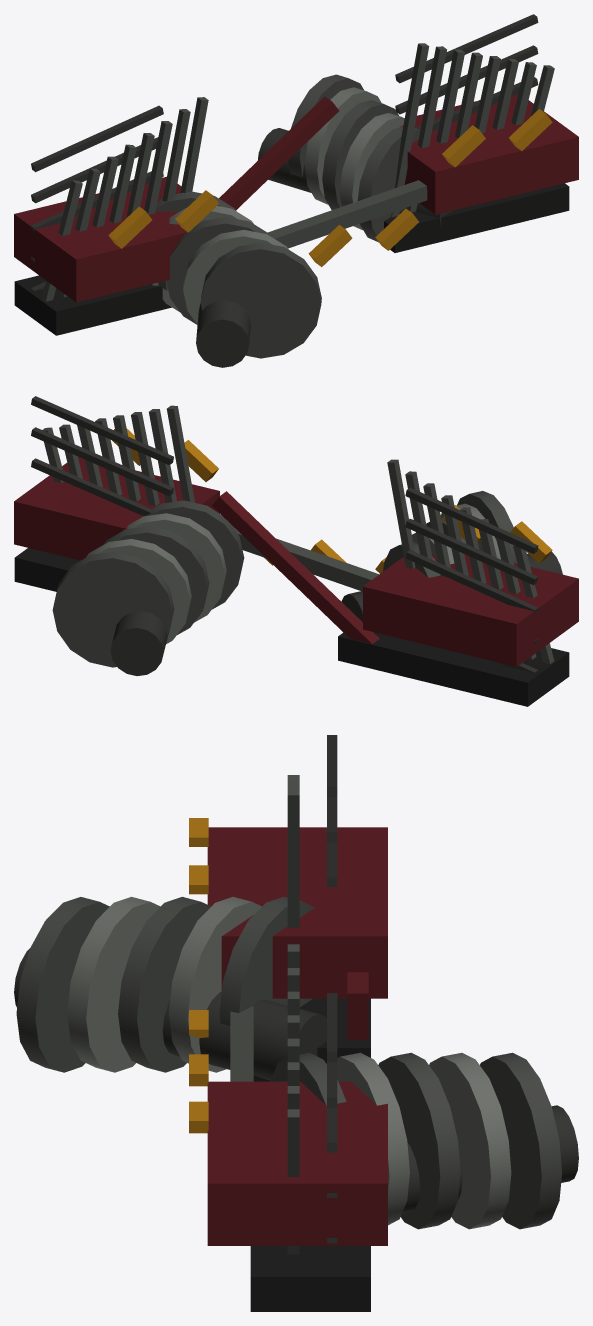
The model's file is CMU3DElectrifiedGrilleBrokenCloud.glb.
3 renders of one model, top to bottom at view 1: azimuth 30°, elevation 25°; view 2: azimuth 150°, elevation 25°; view 3: azimuth 270°, elevation 25°, orthographic. The views are drawn at different scales.
Visible parts, largest first — view 1: fallen coil ring (×10), broken red conductor section (×2), torn mesh strand (×16), remaining ragged crosswire (×6), broken warning stripe (×6), broken lower support rail right, broken lower support rail left, fallen coil shaft (×2), loose metal fragment, bent severed red cable; view 2: broken red conductor section (×2), fallen coil ring (×7), torn mesh strand (×15), remaining ragged crosswire (×6), broken lower support rail left, bent severed red cable, fallen coil shaft (×2), loose metal fragment, broken lower support rail right, broken warning stripe (×2); view 3: fallen coil ring (×10), broken red conductor section (×2), broken lower support rail right, fallen coil shaft (×2), torn mesh strand (×2), loose metal fragment, broken lower support rail left, bent severed red cable, remaining ragged crosswire.
Part boxes in pixels (left/top/right/bottom): fallen coil ring (×10): left=152, top=74, right=420, bottom=358; broken red conductor section (×2): left=14, top=94, right=578, bottom=302; torn mesh strand (×16): left=41, top=43, right=554, bottom=301; remaining ragged crosswire (×6): left=31, top=14, right=538, bottom=231; broken warning stripe (×6): left=108, top=109, right=552, bottom=266; broken lower support rail right: left=362, top=183, right=569, bottom=252; broken lower support rail left: left=14, top=275, right=171, bottom=335; fallen coil shaft (×2): left=196, top=128, right=453, bottom=367; loose metal fragment: left=158, top=180, right=427, bottom=290; bent severed red cable: left=219, top=96, right=339, bottom=210; broken red conductor section (×2): left=14, top=456, right=578, bottom=666; fallen coil ring (×7): left=52, top=491, right=517, bottom=667; torn mesh strand (×15): left=59, top=405, right=554, bottom=663; remaining ragged crosswire (×6): left=31, top=396, right=538, bottom=612; broken lower support rail left: left=338, top=632, right=569, bottom=706; bent severed red cable: left=212, top=491, right=379, bottom=643; fallen coil shaft (×2): left=110, top=551, right=562, bottom=675; loose metal fragment: left=231, top=524, right=378, bottom=590; broken lower support rail right: left=14, top=548, right=80, bottom=591; broken warning stripe (×2): left=184, top=440, right=552, bottom=563; fallen coil ring (×10): left=16, top=896, right=562, bottom=1229; broken red conductor section (×2): left=207, top=827, right=387, bottom=1245; broken lower support rail right: left=250, top=1246, right=370, bottom=1311; fallen coil shaft (×2): left=14, top=948, right=578, bottom=1212; torn mesh strand (×2): left=287, top=788, right=299, bottom=1254; loose metal fragment: left=230, top=1006, right=253, bottom=1081; broken lower support rail left: left=253, top=998, right=370, bottom=1081; bent severed red cable: left=347, top=972, right=368, bottom=1039; remaining ragged crosswire: left=327, top=993, right=337, bottom=1062.
Bounding box in the file's own units: 1 × 0.3673 × 0.6569.
